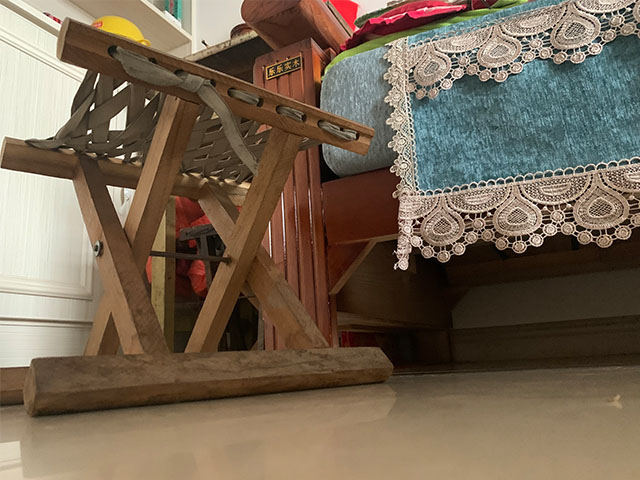cabinet: (1, 1, 197, 368)
sofa: (241, 1, 639, 375)
stool: (1, 16, 402, 419)
